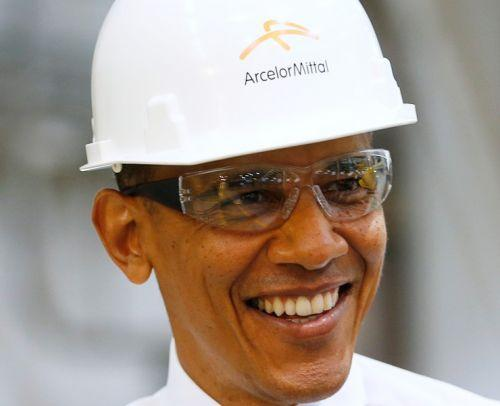helmet: (79, 1, 404, 173)
